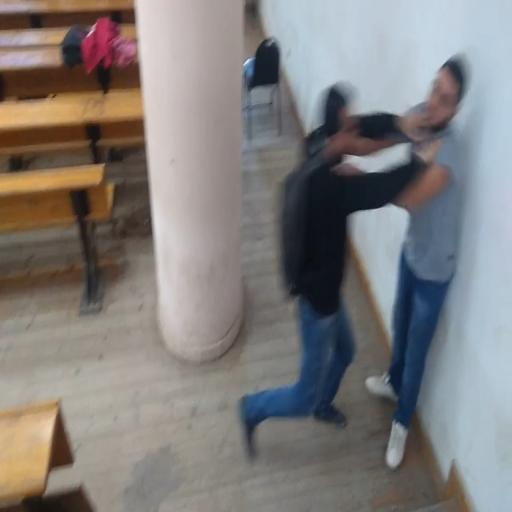violencia: (224, 30, 475, 488)
